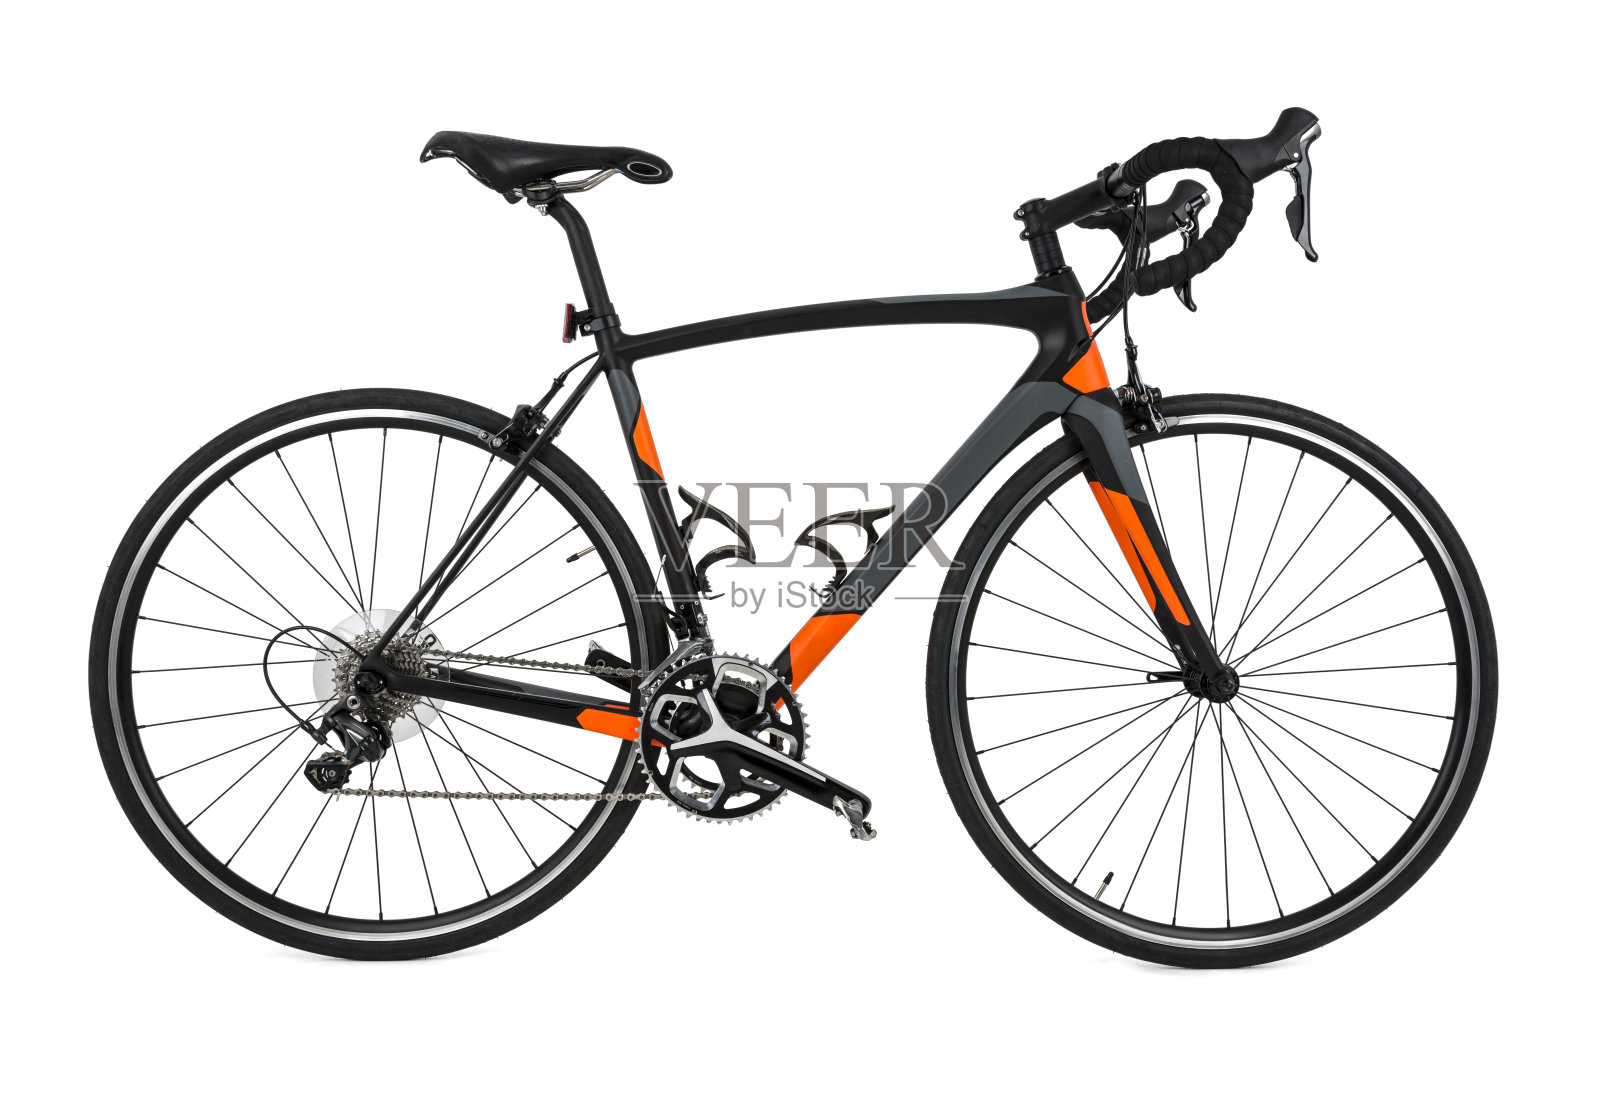MNV: (91, 126, 1494, 975)
